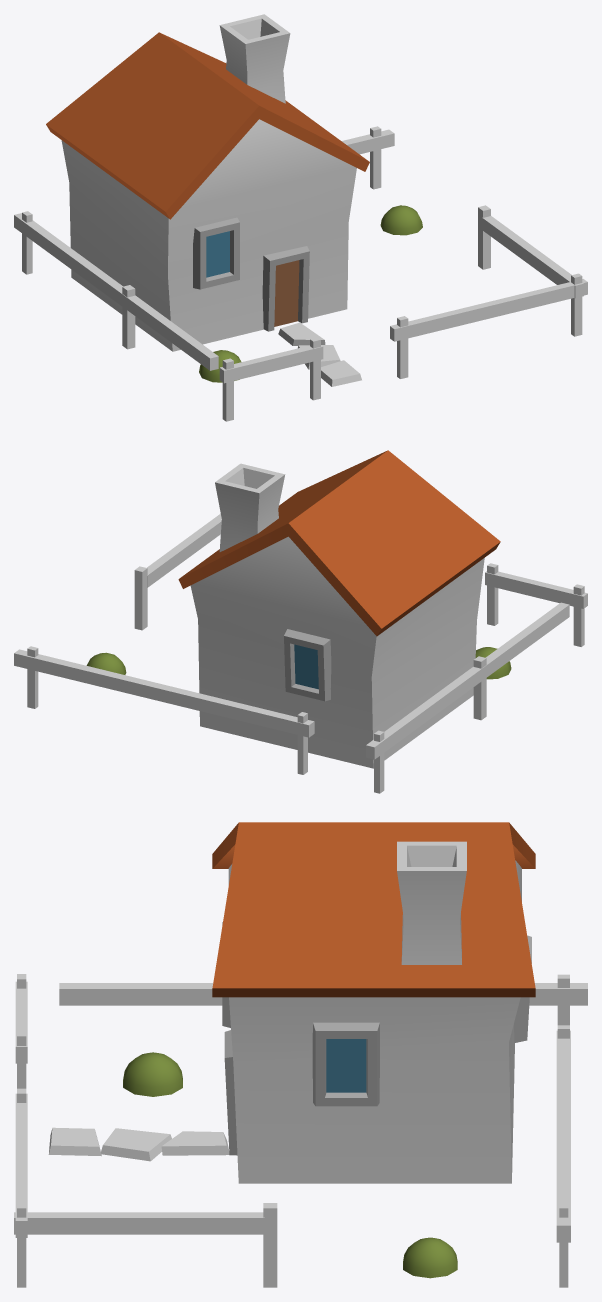
The model's file is house_01.fbx.
The picture shows the model from 3 angles, top to bottom: view 1: azimuth 30°, elevation 25°; view 2: azimuth 150°, elevation 25°; view 3: azimuth 270°, elevation 25°; orthographic projection. The views are drawn at different scales.
Parts seen in each view (by area): view 1: pCube84, mesh_roof_house_01, pCube89, pCube87, pCube112, pCube85, pCube114, pCube110, pCube111, pCube113, pSphere28, pCube118 (+10 smaller); view 2: pCube84, mesh_roof_house_01, pCube118, pCube89, pCube176, pCube114, pCube110, pCube113, pCube111, pCube93, pCube99, pCube97 (+5 smaller); view 3: pCube84, mesh_roof_house_01, pCube89, pCube88, pCube111, pCube110, pCube118, pSphere27, pSphere28, pCube112, pCube103, pCube104 (+8 smaller).
Part boxes in pixels (box(x1,y1,x2,y2)): pCube84: box(61, 119, 356, 351); mesh_roof_house_01: box(46, 32, 369, 219); pCube89: box(219, 14, 290, 103); pCube87: box(262, 246, 309, 331); pCube112: box(390, 279, 587, 341); pCube85: box(193, 217, 239, 289); pCube114: box(14, 213, 122, 303); pCube110: box(117, 289, 218, 370); pCube111: box(482, 216, 583, 298); pCube113: box(219, 345, 323, 383); pSphere28: box(380, 205, 422, 235); pCube118: box(341, 129, 394, 154); pCube84: box(190, 536, 484, 768); mesh_roof_house_01: box(178, 450, 500, 636); pCube118: box(14, 649, 314, 737); pCube89: box(215, 463, 285, 551); pCube176: box(284, 629, 331, 701); pCube114: box(366, 670, 478, 759); pCube110: box(469, 602, 569, 682); pCube113: box(485, 571, 587, 608); pCube111: box(147, 514, 221, 587); pCube93: box(134, 566, 147, 630); pCube99: box(473, 656, 486, 720); pCube97: box(573, 584, 584, 646); pCube84: box(228, 860, 521, 1183); mesh_roof_house_01: box(212, 822, 535, 997); pCube89: box(397, 841, 466, 964); pCube88: box(312, 1022, 379, 1106); pCube111: box(14, 1212, 264, 1234); pCube110: box(59, 983, 222, 1005); pCube118: box(556, 1030, 570, 1242); pSphere27: box(123, 1052, 182, 1096); pSphere28: box(403, 1237, 457, 1278); pCube112: box(15, 1093, 27, 1237); pCube103: box(101, 1128, 171, 1161); pCube104: box(161, 1131, 229, 1155).
Bounding box in the file's own units: 8.52 × 5.23 × 8.47.
